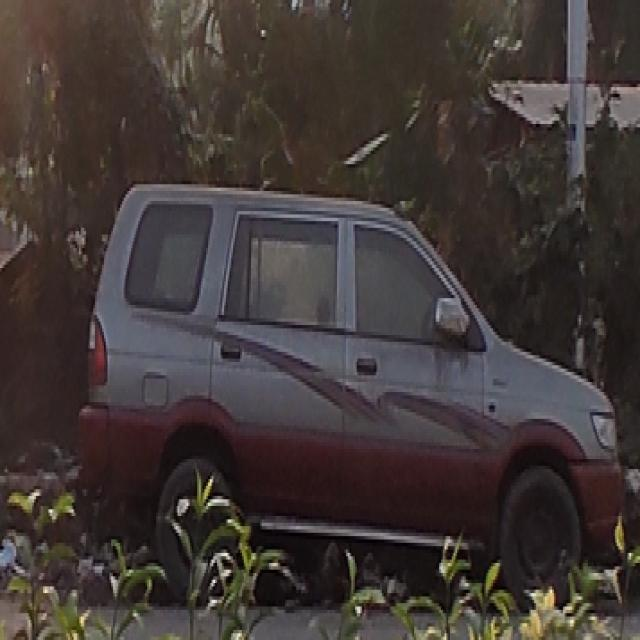car: (80, 182, 625, 618)
